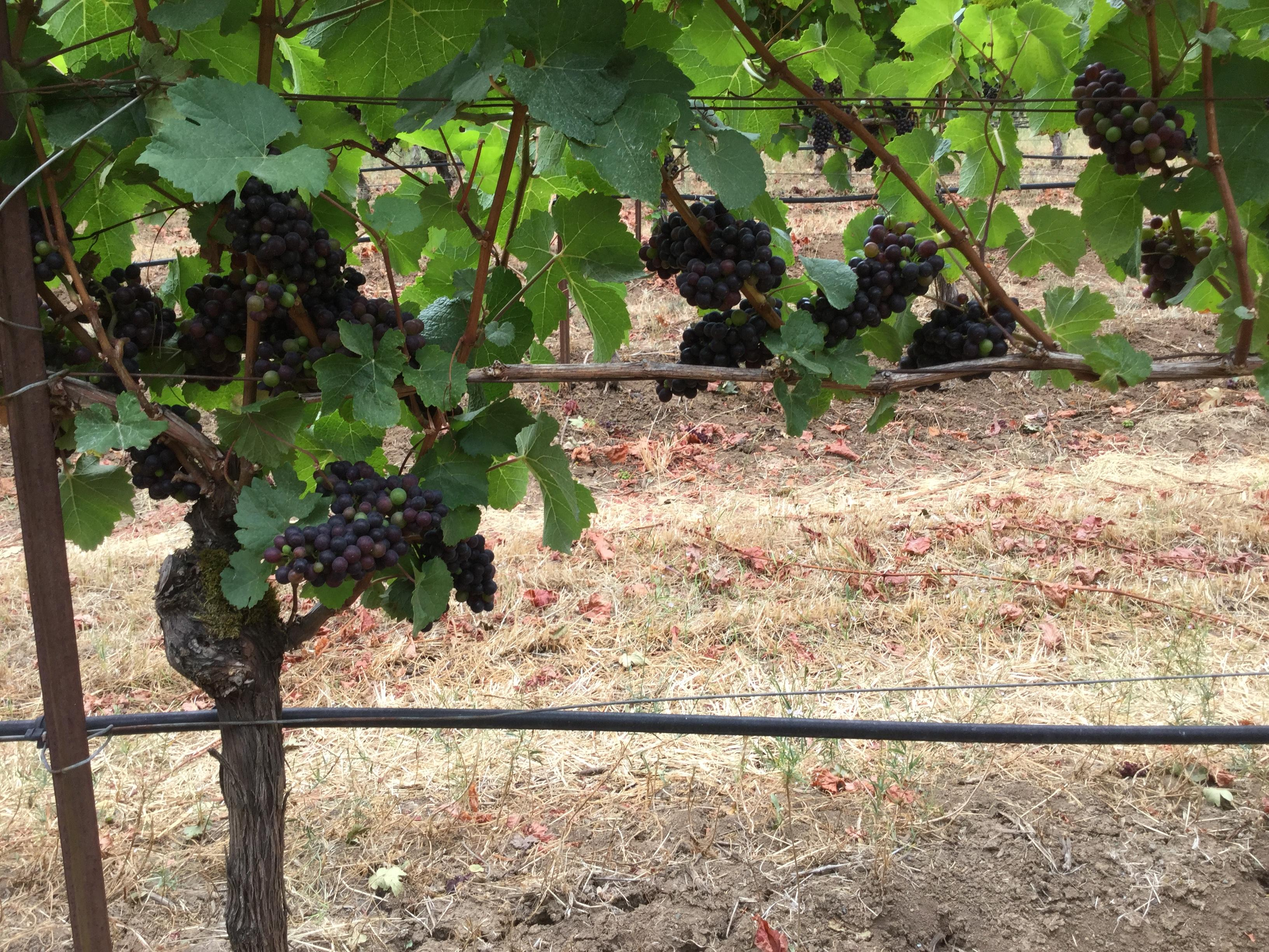leaf: (141, 77, 329, 200), (305, 0, 502, 97), (503, 0, 628, 143), (552, 193, 643, 361), (220, 466, 327, 607), (396, 17, 510, 131), (571, 93, 679, 202), (516, 413, 596, 552), (313, 320, 406, 426), (63, 149, 144, 262), (1074, 161, 1143, 280), (234, 466, 329, 552), (551, 193, 644, 280), (1213, 56, 1268, 203), (59, 454, 133, 550), (215, 392, 304, 468), (945, 112, 1022, 198), (400, 227, 478, 309), (687, 128, 766, 208), (1007, 0, 1077, 89), (411, 434, 490, 508), (75, 392, 168, 454), (1006, 205, 1085, 275), (805, 13, 875, 91), (568, 275, 629, 361), (178, 22, 260, 84), (451, 399, 533, 456), (1044, 286, 1114, 352), (42, 90, 121, 148), (402, 343, 468, 410), (45, 0, 135, 47), (764, 311, 829, 376), (957, 4, 1019, 68), (1084, 334, 1151, 392), (888, 128, 946, 194), (1168, 242, 1230, 303), (310, 412, 385, 460), (687, 4, 745, 66), (773, 374, 830, 436), (892, 0, 961, 51), (1216, 289, 1268, 353), (159, 250, 208, 317), (410, 558, 453, 633), (856, 309, 918, 361), (220, 549, 274, 608), (1026, 73, 1074, 135), (799, 257, 857, 308), (93, 101, 149, 152), (358, 192, 423, 235), (817, 338, 873, 387), (963, 200, 1021, 247), (623, 4, 681, 50), (149, 0, 227, 30), (64, 33, 129, 69), (878, 175, 924, 220), (488, 459, 528, 508), (301, 576, 357, 610), (182, 381, 243, 410), (218, 0, 260, 36), (358, 103, 400, 139), (442, 506, 481, 544), (865, 393, 898, 433), (822, 151, 851, 192), (315, 0, 357, 14), (1253, 363, 1268, 400), (1196, 122, 1209, 156), (160, 30, 177, 44), (426, 331, 439, 343), (1205, 284, 1215, 293), (1187, 170, 1199, 177), (746, 145, 752, 152), (874, 172, 879, 180), (544, 275, 551, 280), (412, 182, 416, 190), (334, 402, 337, 409), (463, 312, 465, 322), (797, 429, 801, 433), (367, 327, 371, 330), (1194, 307, 1200, 309), (387, 885, 392, 887), (1187, 304, 1192, 306), (394, 254, 395, 263), (393, 418, 395, 422), (428, 334, 430, 338), (217, 196, 220, 198), (379, 870, 382, 872), (1101, 0, 1104, 2), (538, 327, 540, 330), (538, 280, 540, 283), (23, 49, 25, 52), (217, 22, 218, 26), (221, 19, 222, 22), (754, 153, 756, 154), (371, 330, 372, 332), (459, 330, 460, 332), (750, 149, 751, 151), (856, 10, 857, 12), (115, 106, 117, 107), (324, 408, 325, 408), (441, 345, 443, 345), (399, 262, 405, 262)
